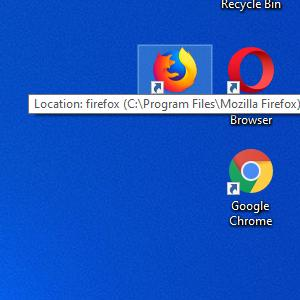firefox: (151, 47, 198, 94)
